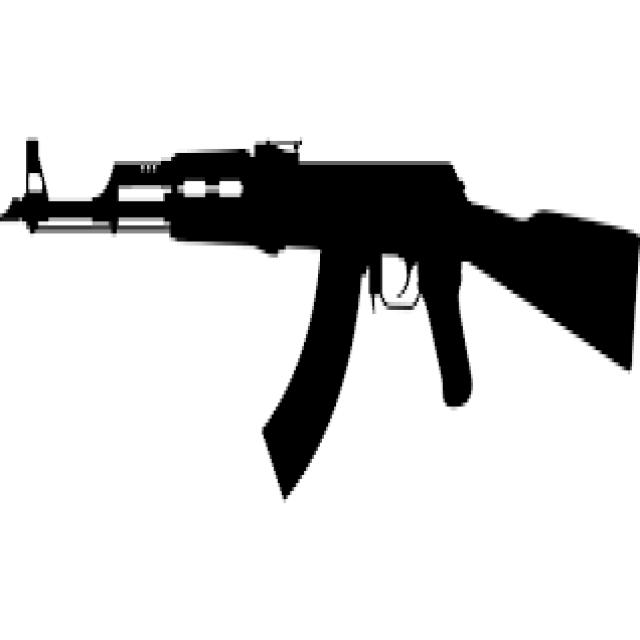rifle: (1, 119, 640, 508)
